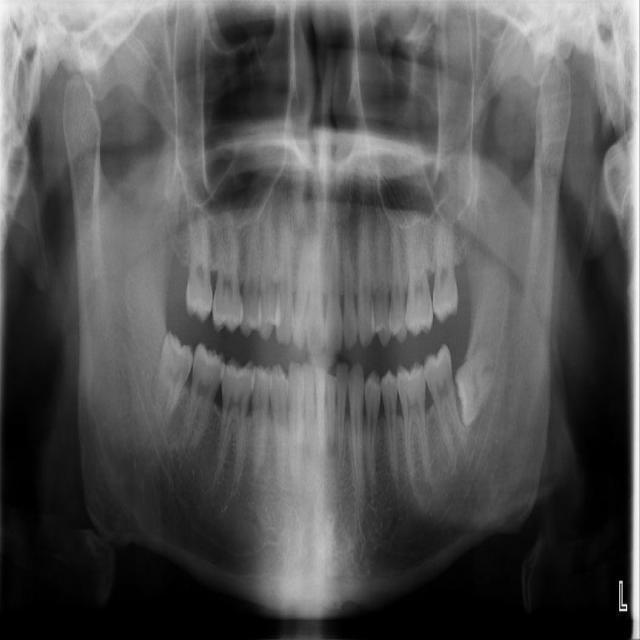impacted tooth: (153, 329, 194, 428), (456, 346, 501, 432)
